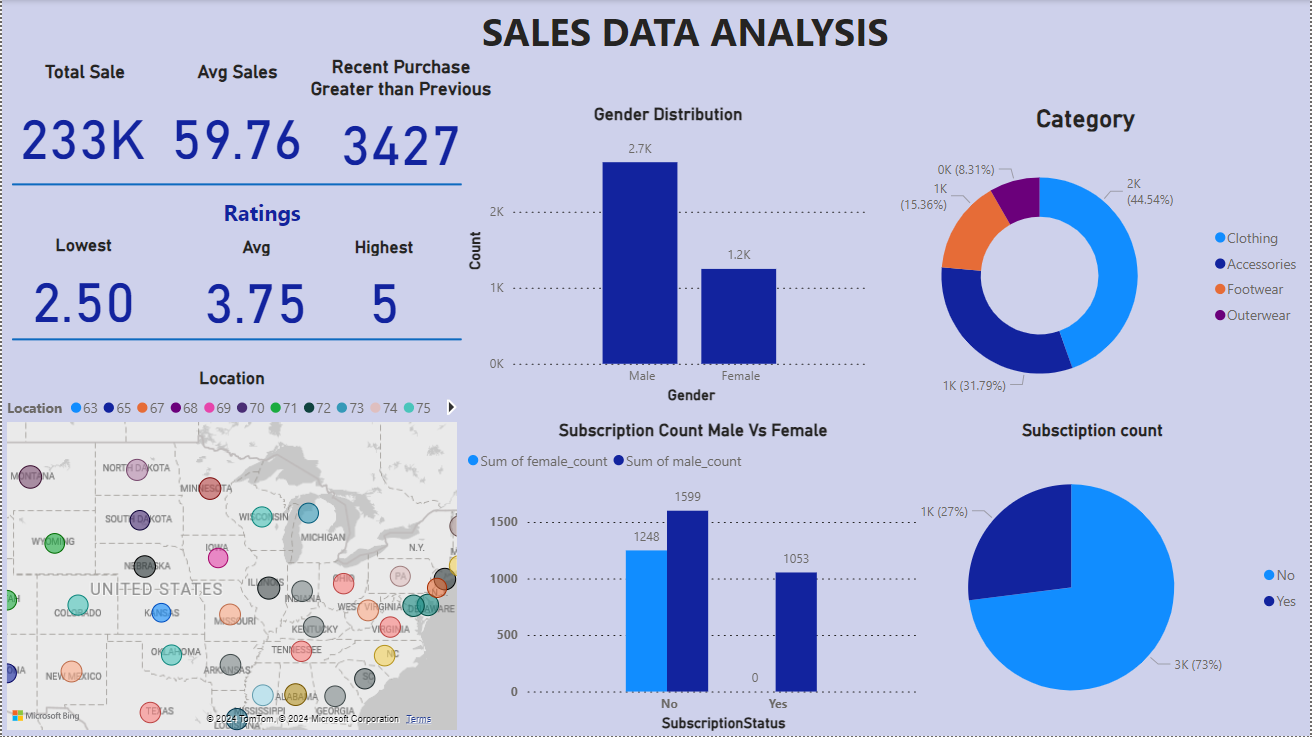

This screenshot's page, from the dashboard's own definition file:
{"tool":"powerbi","page":{"name":"Page 1","canvas":[1280,720],"ordinal":0},"visuals":[{"type":"textbox","box":[408.4,0,519.7,79.5],"z":0},{"type":"cardVisual","title":"Total Sale","fields":{"Data":["Sum(total_sale.Total_Sale)"]},"box":[0,60,162.5,121.2],"z":1000},{"type":"cardVisual","title":"Avg Sales","fields":{"Data":["Sum(avg_purchase amt.avgpurchase)"]},"box":[146.2,60,167.5,115],"z":2000},{"type":"donutChart","title":"Category","fields":{"Category":["category_count.category"],"Y":["Sum(category_count.category_count)"]},"box":[840.1,101.5,440.2,309.4],"z":3000},{"type":"pieChart","title":"Subsctiption count ","fields":{"Category":["total_subscription_count.SubscriptionStatus"],"Y":["Sum(total_subscription_count.total_count)"]},"box":[853.8,411.2,426.2,308.8],"z":4000},{"type":"card","title":"Avg","fields":{"Values":["Sum(Review Ratings.avgrat)"]},"box":[158.8,230.7,180,98.8],"z":5000},{"type":"card","title":"Highest","fields":{"Values":["Sum(Review Ratings.highest)"]},"box":[307.5,230.7,133.8,98.8],"z":6000},{"type":"card","title":"Lowest","fields":{"Values":["Sum(Review Ratings.lowest)"]},"box":[1.3,229.4,157.5,100],"z":7000},{"type":"map","title":"Location","fields":{"Series":["location_count.Location_count"],"Size":["Sum(location_count.Location_count)"],"Category":["location_count.Location"]},"box":[0,360,450,360],"z":8000},{"type":"textbox","box":[201.9,188.6,105.2,46.5],"z":9000},{"type":"card","title":"Recent Purchase Greater than Previous","fields":{"Values":["Sum(recentamt_greater than previous.recent_above)"]},"box":[293.8,55,193.8,120],"z":10000},{"type":"clusteredColumnChart","title":"Gender Distribution","fields":{"Category":["total_gender_count.gender"],"Y":["Sum(total_gender_count.total_count)"]},"box":[450,101.5,403.5,298.4],"z":11000},{"type":"clusteredColumnChart","title":"Subscription Count Male Vs Female","fields":{"Category":["substatus and gender count.DiscountApplied","substatus and gender count.SubscriptionStatus"],"Y":["Sum(substatus and gender count.female_count)","Sum(substatus and gender count.male_count)"]},"box":[450,410.9,452.4,309.4],"z":12000},{"type":"shape","box":[9.8,152.9,440.2,55],"z":13000},{"type":"shape","box":[10,305,440,55],"z":14000}]}

Visuals, with their boxes in screenshot pixels (x1, y1, x2, y2), scaled from the page's 1280x720 canvas onto the 1312x737 screenshot:
textbox: box(419, 0, 951, 81)
"Total Sale" cardVisual: box(0, 61, 167, 185)
"Avg Sales" cardVisual: box(150, 61, 322, 179)
"Category" donutChart: box(861, 104, 1311, 421)
"Subsctiption count " pieChart: box(875, 421, 1311, 736)
"Avg" card: box(163, 236, 347, 337)
"Highest" card: box(315, 236, 452, 337)
"Lowest" card: box(1, 235, 163, 337)
"Location" map: box(0, 368, 461, 736)
textbox: box(207, 193, 315, 241)
"Recent Purchase Greater than Previous" card: box(301, 56, 500, 179)
"Gender Distribution" clusteredColumnChart: box(461, 104, 875, 409)
"Subscription Count Male Vs Female" clusteredColumnChart: box(461, 421, 925, 736)
shape: box(10, 157, 461, 213)
shape: box(10, 312, 461, 368)
